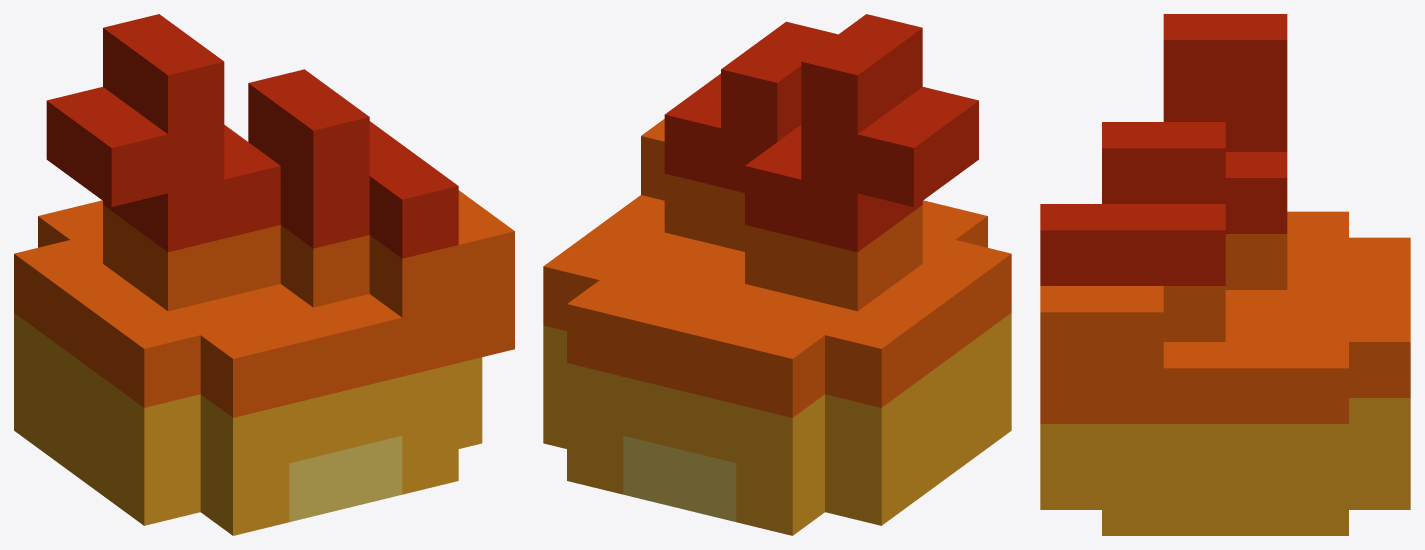
Rendered from flame_02.glb.
The picture shows the model from 3 angles, left to right: view 1: azimuth 30°, elevation 25°; view 2: azimuth 150°, elevation 25°; view 3: azimuth 270°, elevation 25°; orthographic projection. The views are drawn at different scales.
Parts seen in each view (by area): view 1: flame_02; view 2: flame_02; view 3: flame_02.
Part boxes in pixels (x1,y1,x2,y2): flame_02: (14,14,514,535); flame_02: (543,14,1011,535); flame_02: (1040,14,1410,535).
Size of the model in its own units: 0.75 by 0.875 by 0.75.
